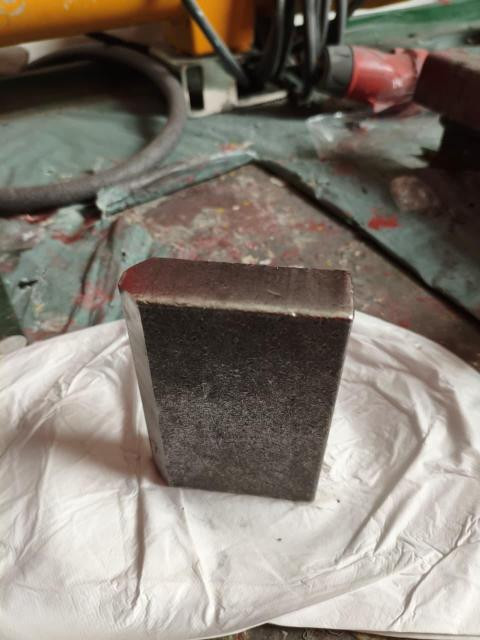Metal: (108, 258, 367, 502)
